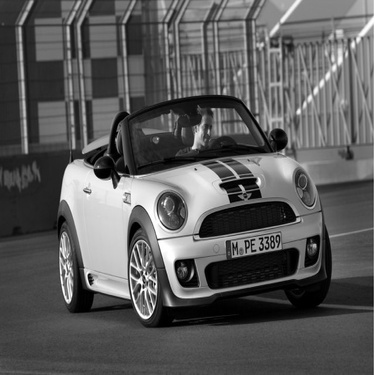car: (47, 88, 338, 330)
